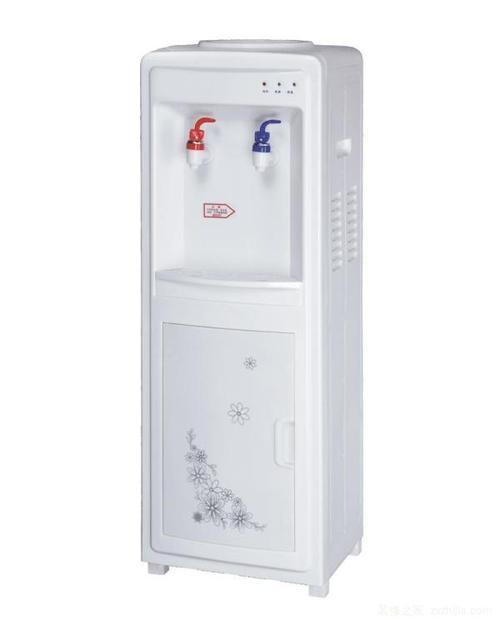Dispenser: (140, 38, 364, 596)
